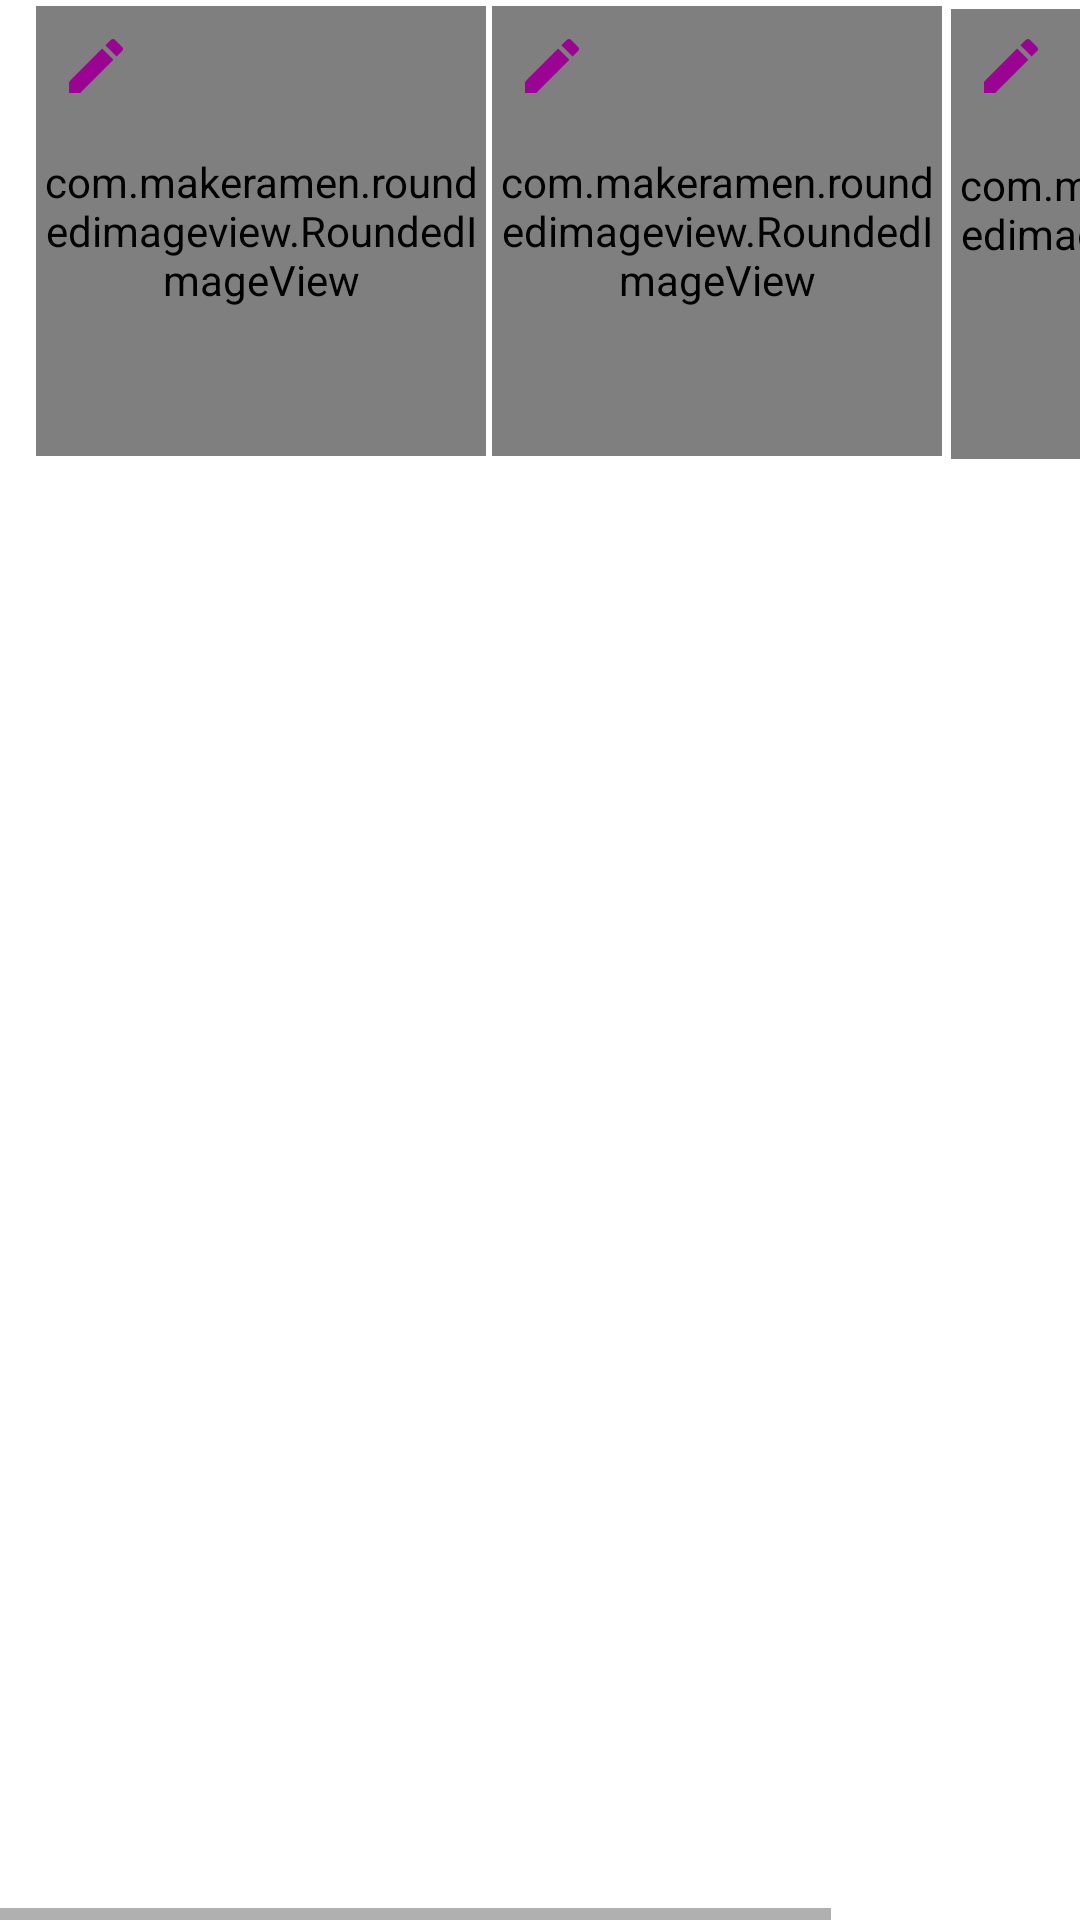

Where to tap for icons on this 1080×1920 app screen, as (x=x, y=y):
edit: (x=96, y=66), (x=552, y=66), (x=1011, y=66)
